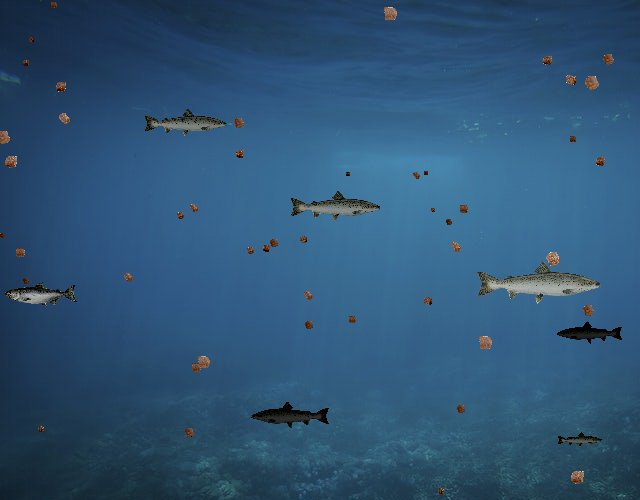Fish: (474, 259, 603, 305), (288, 190, 382, 223), (142, 107, 228, 138), (251, 400, 332, 429), (5, 281, 78, 308), (557, 320, 625, 345), (557, 432, 604, 448)
Pellet: (563, 463, 591, 491), (52, 106, 77, 131), (451, 400, 470, 419), (433, 484, 448, 498), (34, 422, 48, 436), (25, 33, 37, 45)
